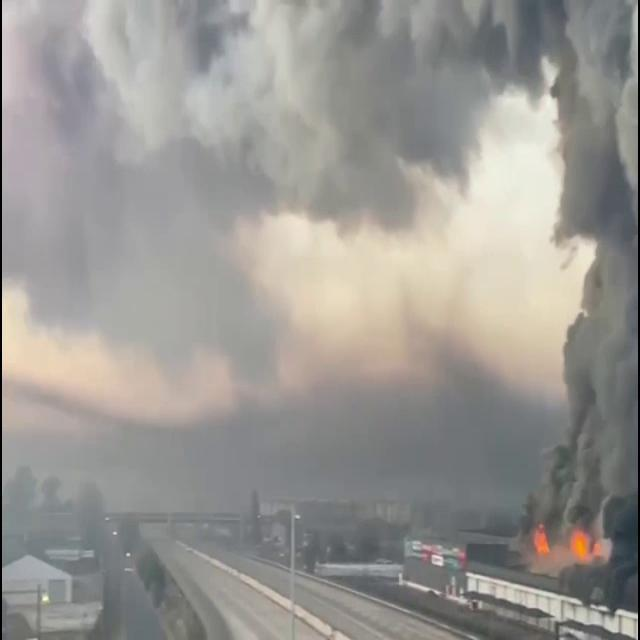Fire: (570, 526, 602, 562), (530, 521, 552, 556)
Smoke: (2, 281, 566, 640), (2, 0, 312, 398), (70, 0, 548, 250), (522, 241, 636, 610), (548, 0, 636, 287)
